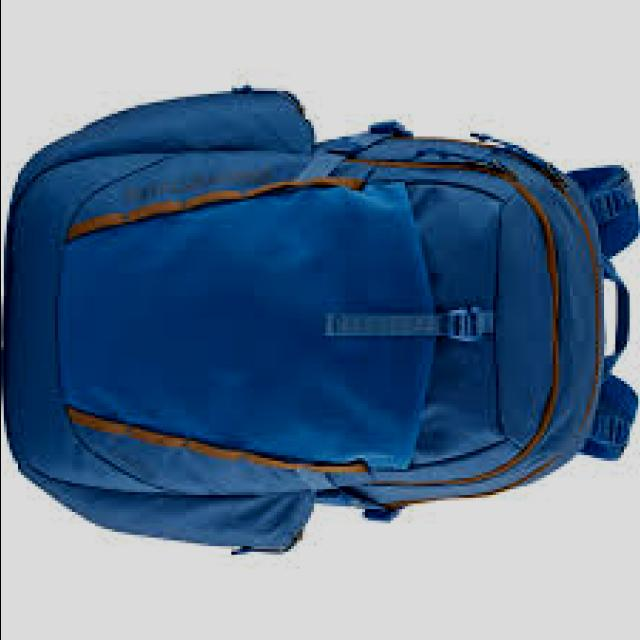backpack: (4, 84, 640, 556)
